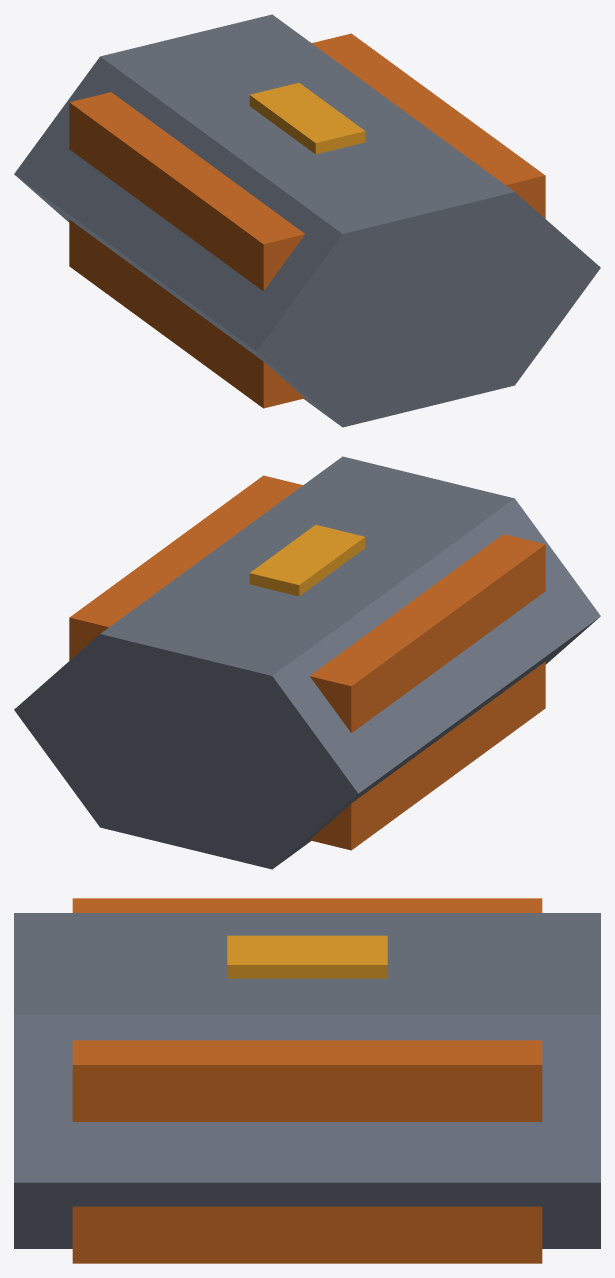
The model's file is ship_fuel_cell.obj.
The picture shows the model from 3 angles, top to bottom: view 1: azimuth 30°, elevation 25°; view 2: azimuth 150°, elevation 25°; view 3: azimuth 270°, elevation 25°; orthographic projection. The views are drawn at different scales.
Visible parts, largest first — view 1: shell, cells, gauge; view 2: shell, cells, gauge; view 3: shell, cells, gauge.
Boxes of the visible parts, bbox=[...] form: shell: bbox=[14, 14, 600, 427]; cells: bbox=[69, 33, 545, 408]; gauge: bbox=[249, 83, 365, 154]; shell: bbox=[14, 456, 600, 869]; cells: bbox=[69, 475, 545, 850]; gauge: bbox=[249, 525, 365, 596]; shell: bbox=[14, 913, 600, 1248]; cells: bbox=[72, 898, 542, 1263]; gauge: bbox=[227, 935, 387, 978].
Size of the model in its own units: 1.8 by 1.02 by 2.2.
